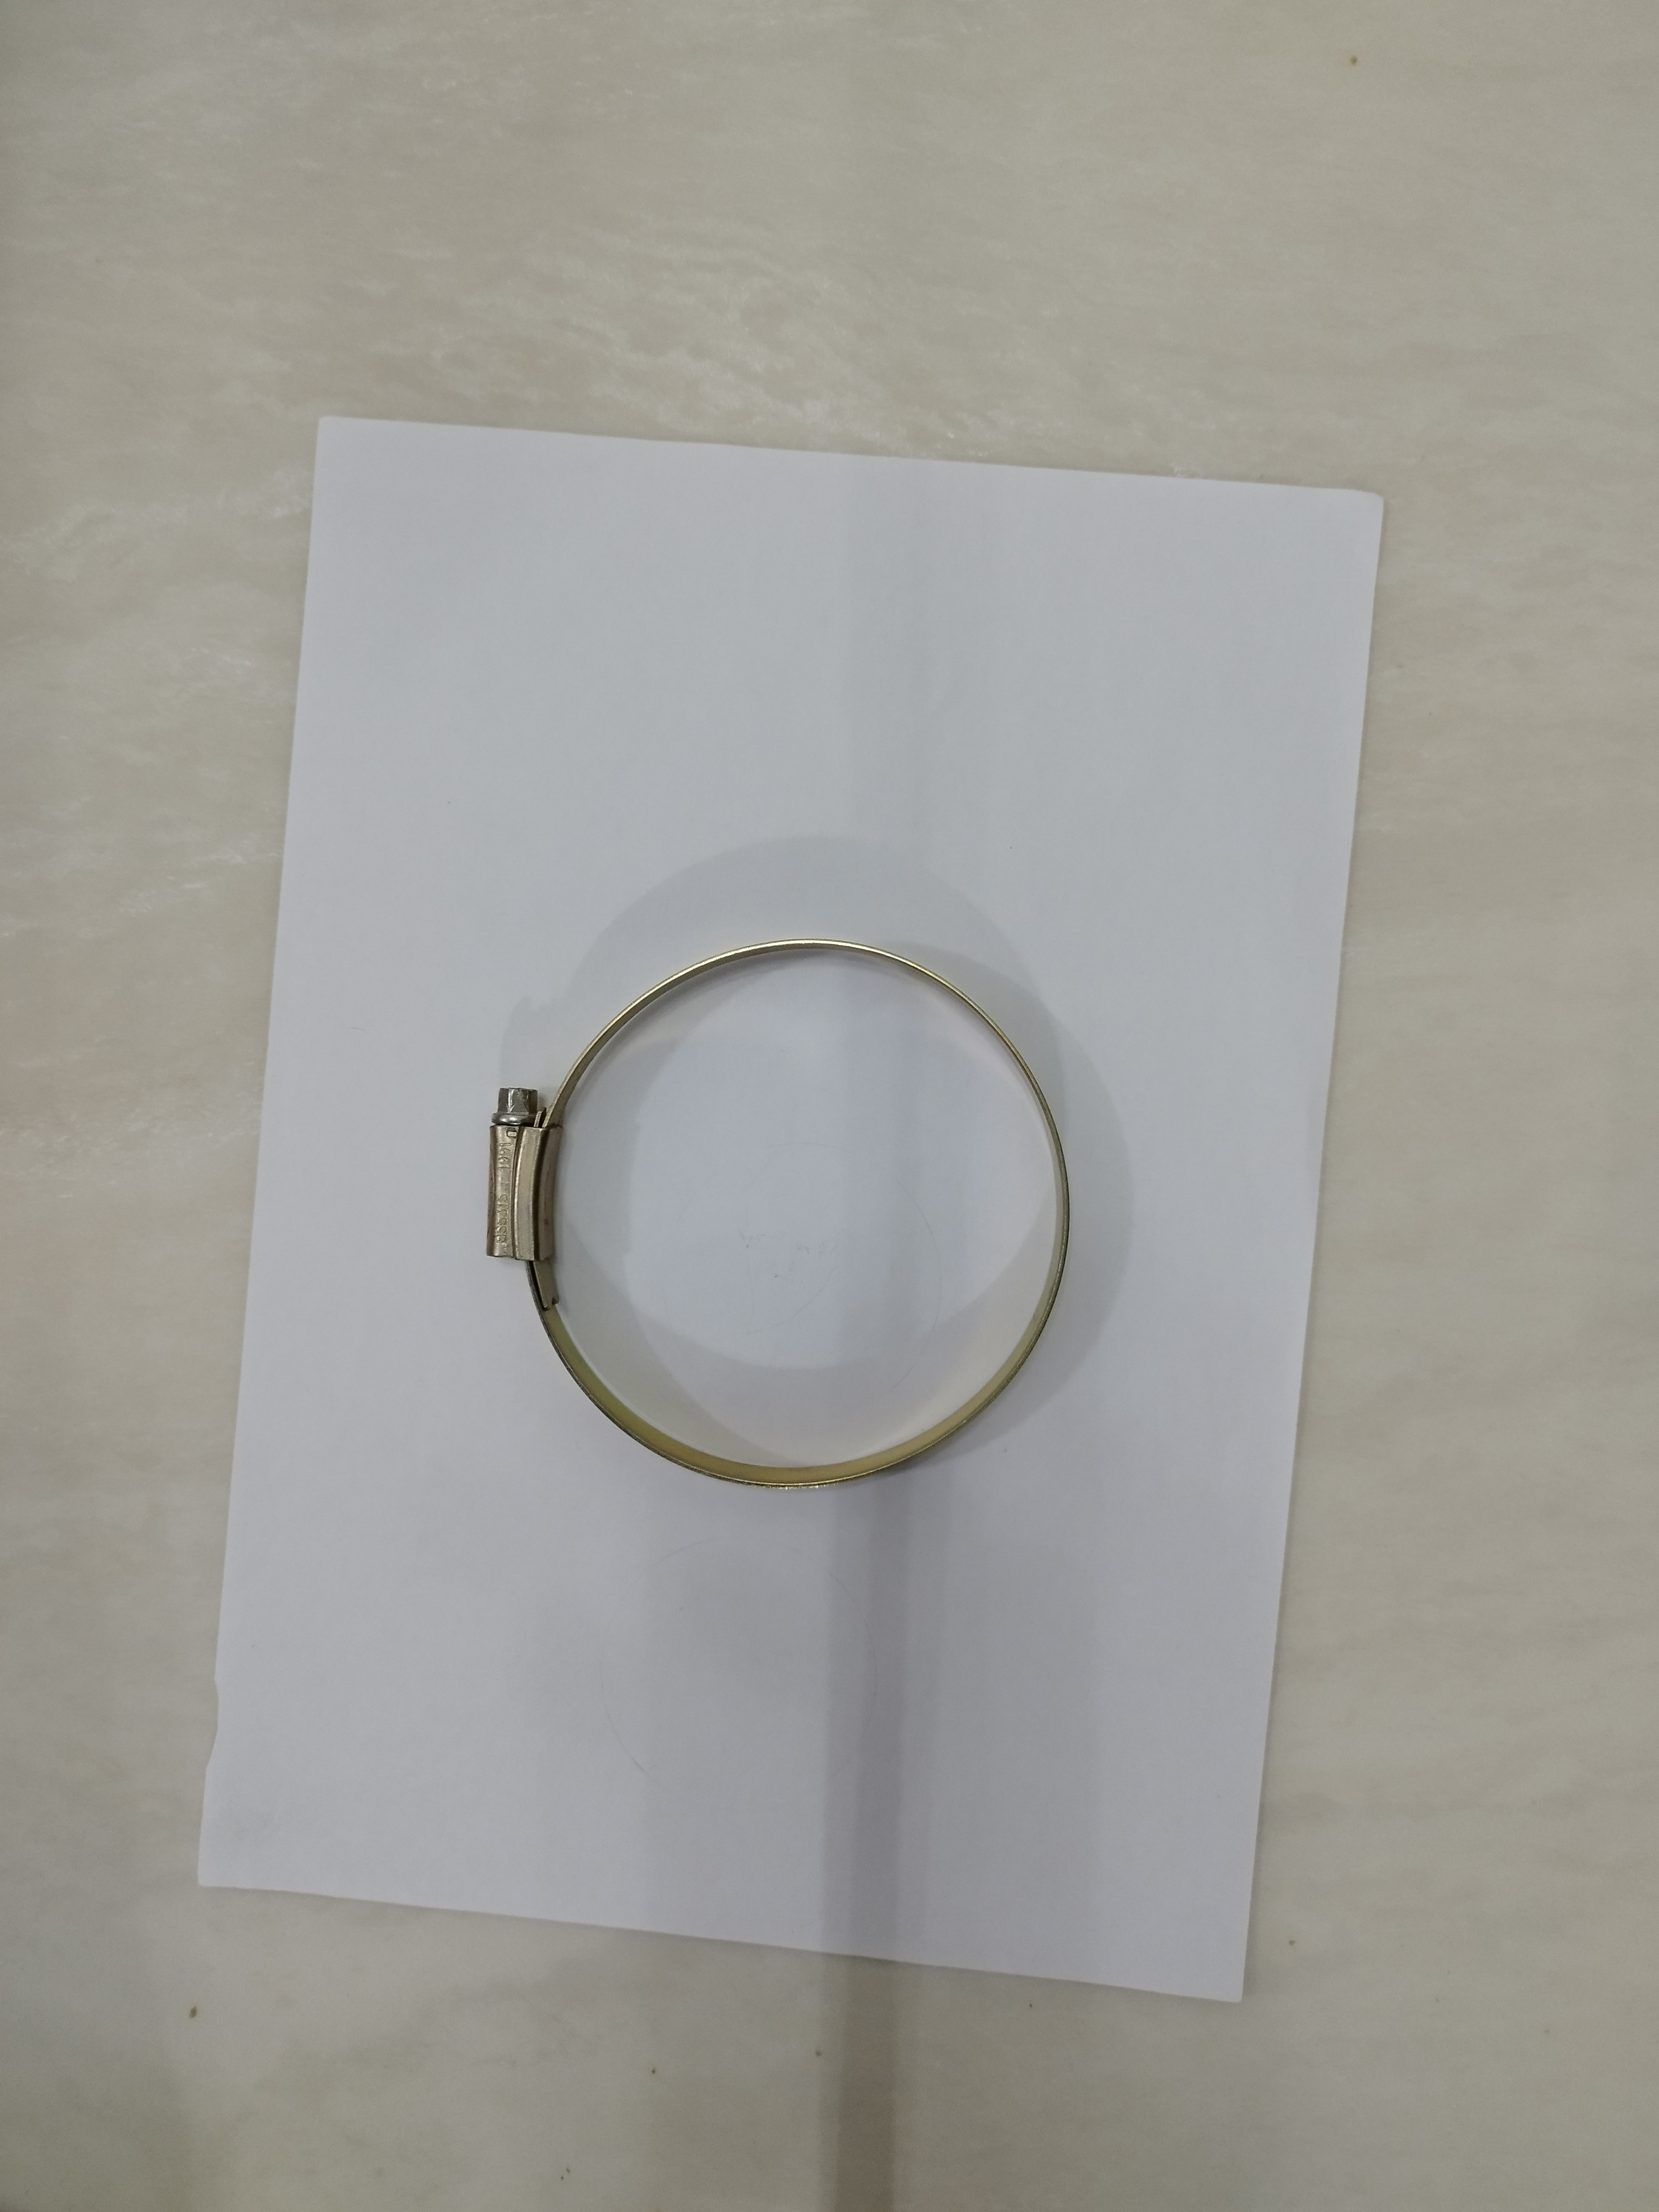ring_clamp: (479, 909, 1079, 1521)
